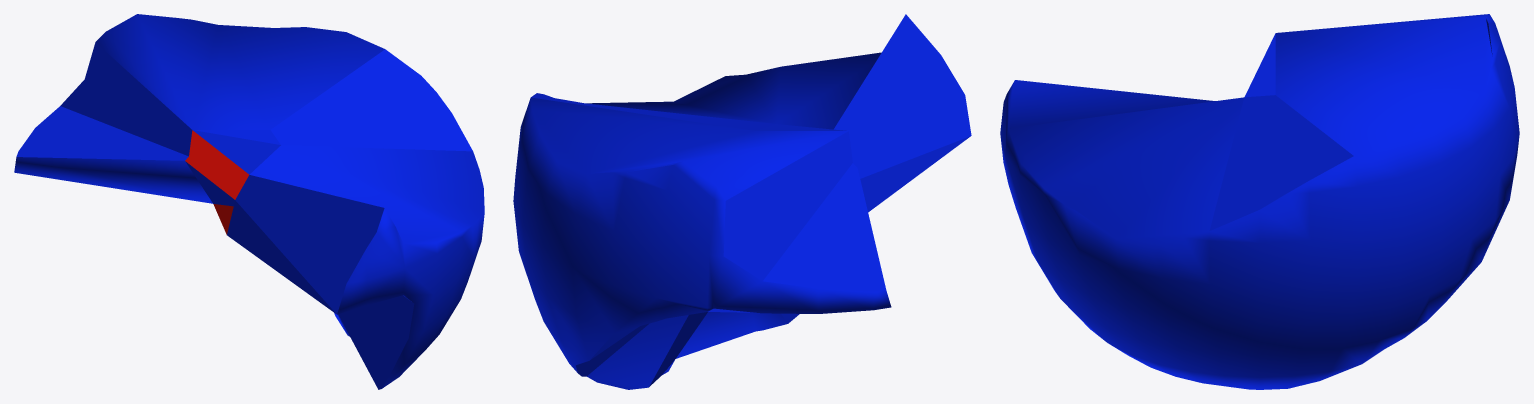
The model's file is Orbe_Cross_F1.fbx.
3 views of the same model, side by side, from view 1: azimuth 30°, elevation 25°; view 2: azimuth 150°, elevation 25°; view 3: azimuth 270°, elevation 25° (orthographic). The views are drawn at different scales.
Visible parts, largest first — view 1: Orbe_Cross_F1; view 2: Orbe_Cross_F1; view 3: Orbe_Cross_F1.
Part boxes in pixels (left/top/right/bottom): Orbe_Cross_F1: left=14, top=14, right=484, bottom=389; Orbe_Cross_F1: left=513, top=14, right=971, bottom=389; Orbe_Cross_F1: left=1000, top=14, right=1519, bottom=389.
Bounding box in the file's own units: 175 × 131 × 200.
